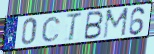0: (20, 16, 38, 47)
6: (128, 6, 146, 37)
B: (82, 10, 105, 41)
C: (40, 16, 62, 43)
M: (102, 6, 130, 40)
T: (65, 12, 83, 43)
